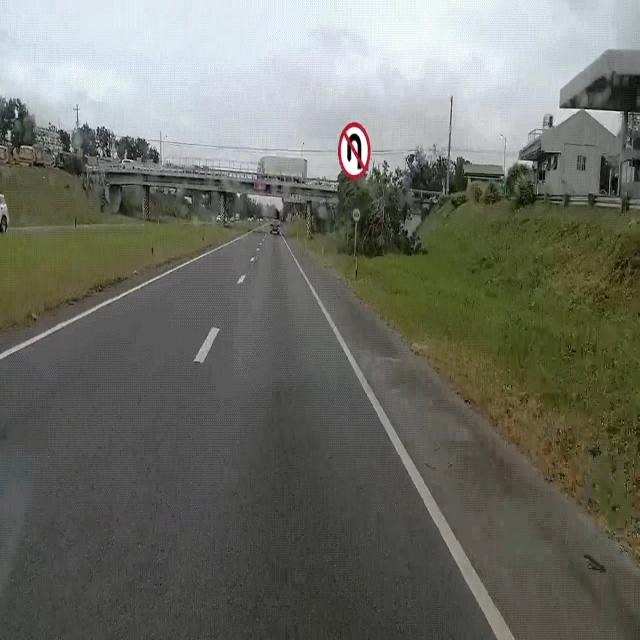Demi-Tour-Interdit: (333, 116, 375, 186)
